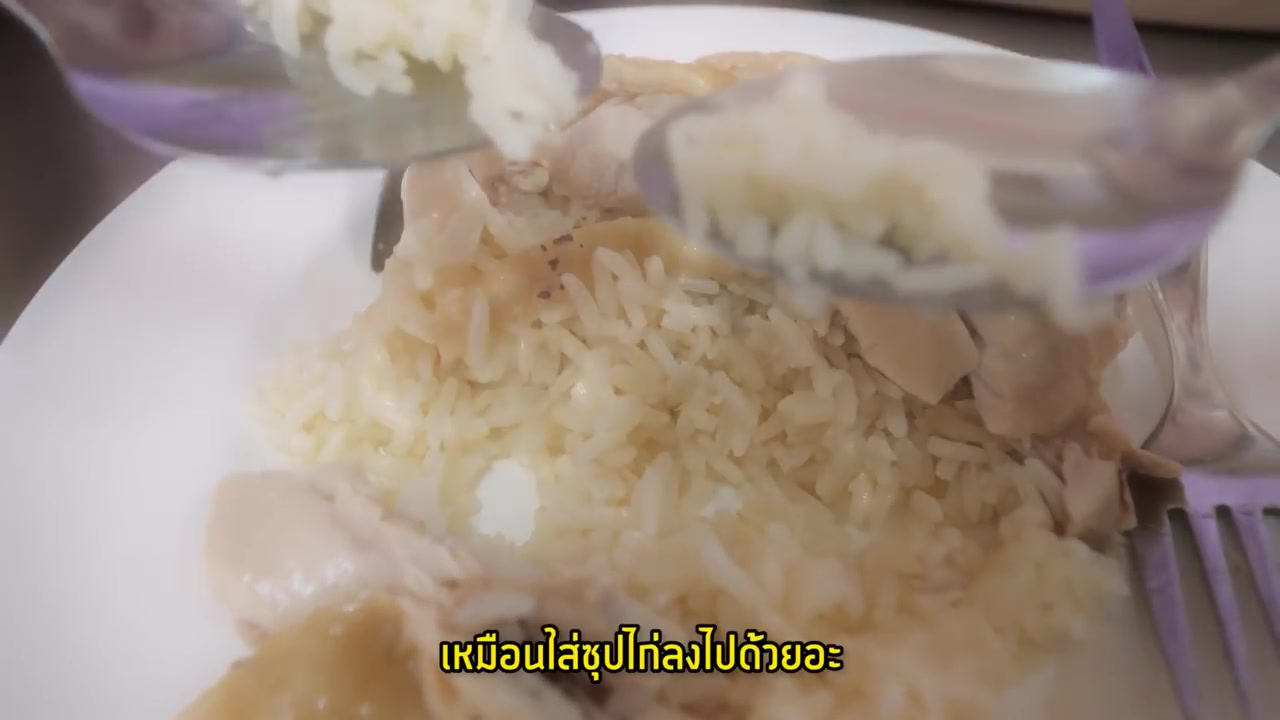text-label: (434, 622, 847, 682)
